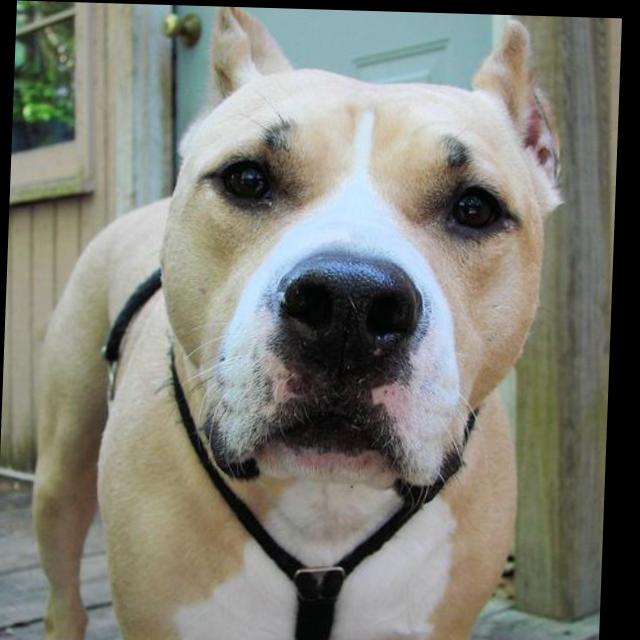amstaff: (30, 2, 574, 640)
